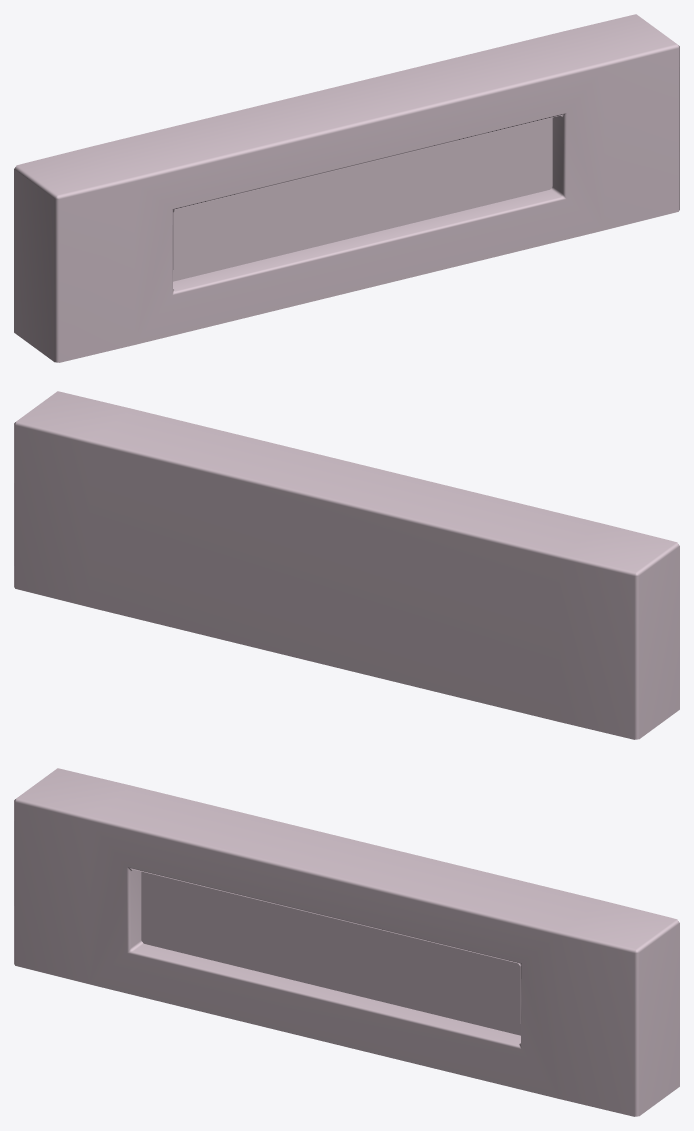
File: mod_sc_roma_001_wall_001.fbx
3 views of the same model, one above another, from view 1: azimuth 30°, elevation 25°; view 2: azimuth 150°, elevation 25°; view 3: azimuth 330°, elevation 25° (orthographic).
Parts seen in each view (by area): view 1: mod_sc_roma_001_wall_001; view 2: mod_sc_roma_001_wall_001; view 3: mod_sc_roma_001_wall_001.
Part boxes in pixels (box(x1,y1,x2,y2)): mod_sc_roma_001_wall_001: box(14, 14, 679, 362); mod_sc_roma_001_wall_001: box(14, 391, 679, 739); mod_sc_roma_001_wall_001: box(14, 768, 679, 1116).
Size of what is drawn, in the model's own units: 798 by 203 by 100.
